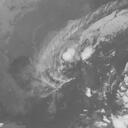cyclone: (30, 6, 125, 99)
